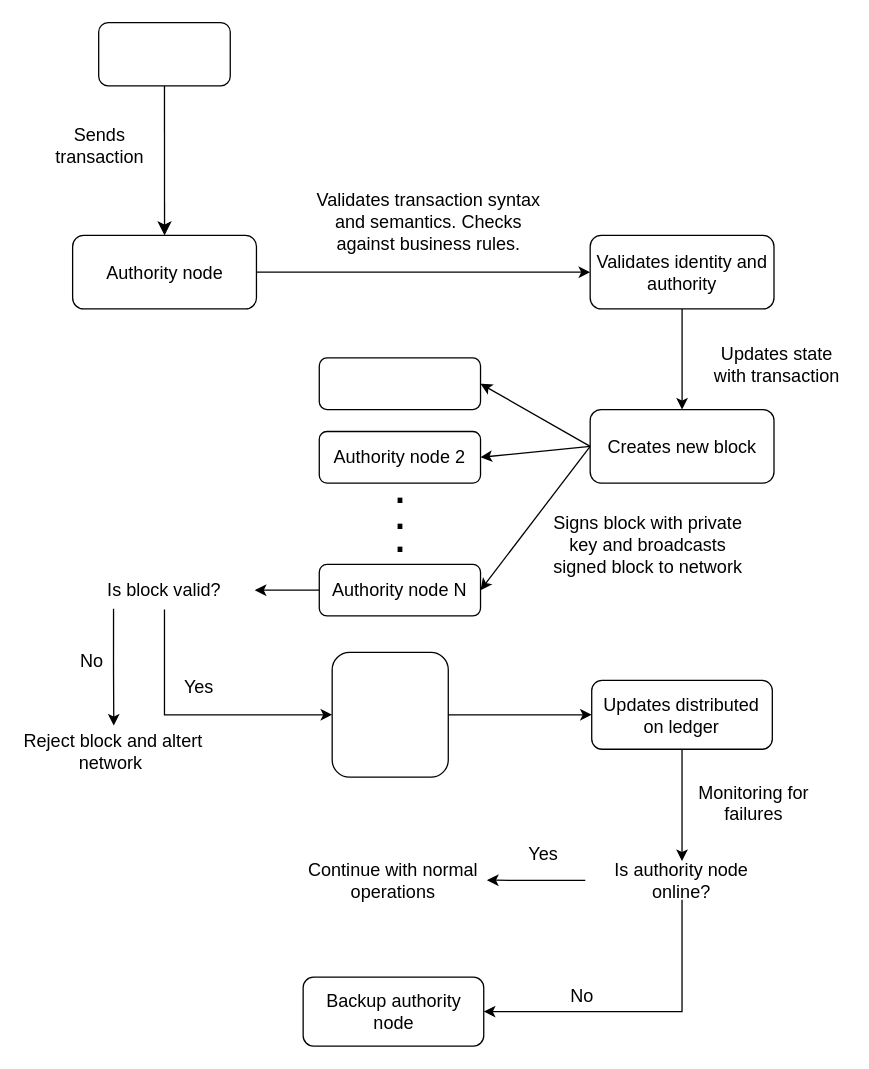
The diagram is 869 pixels wide and 1069 high, and some of its shapes have lost their labels. Here are the shapes that lost their labels. From the top down, the box of each, then its label:
(97, 21, 230, 86): Client
(318, 357, 481, 410): Authority node 1
(331, 651, 448, 777): Block added to blockchain
